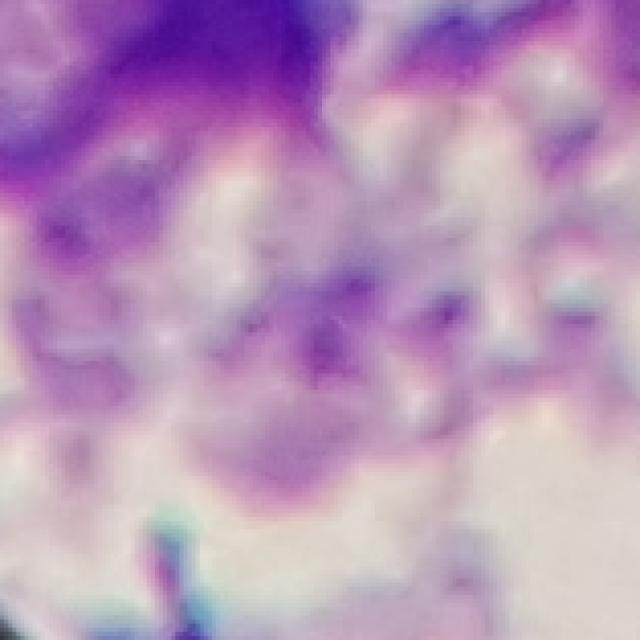non-sperm: (0, 0, 375, 242), (211, 262, 484, 403)
